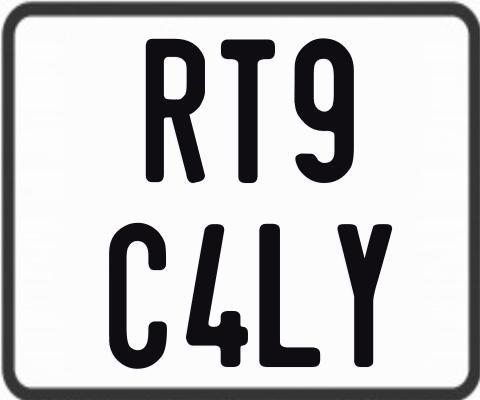4: (183, 223, 248, 371)
9: (293, 37, 353, 185)
C: (107, 223, 167, 372)
L: (259, 224, 325, 371)
R: (144, 38, 208, 183)
T: (218, 39, 278, 183)
Y: (336, 222, 395, 371)
